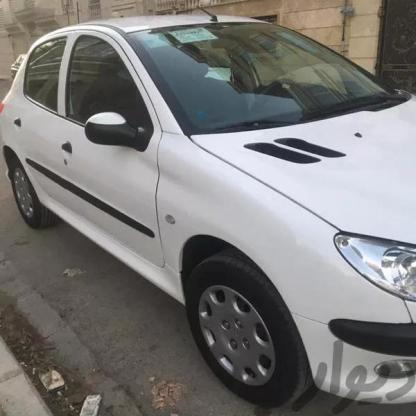Car: (0, 14, 416, 416)
